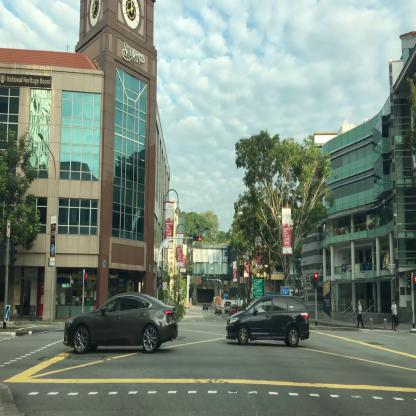red_traffic_light: (314, 273, 317, 288), (193, 235, 201, 240)
